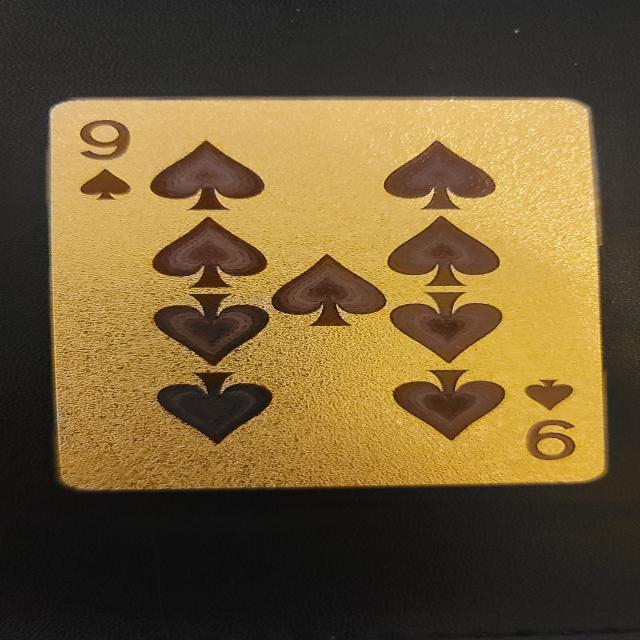9 of spades: (47, 97, 610, 491)
